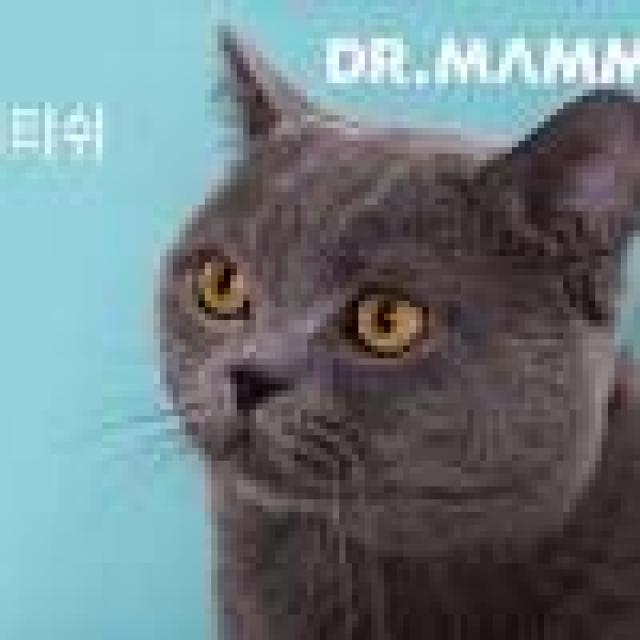cat-face: (146, 66, 556, 610)
